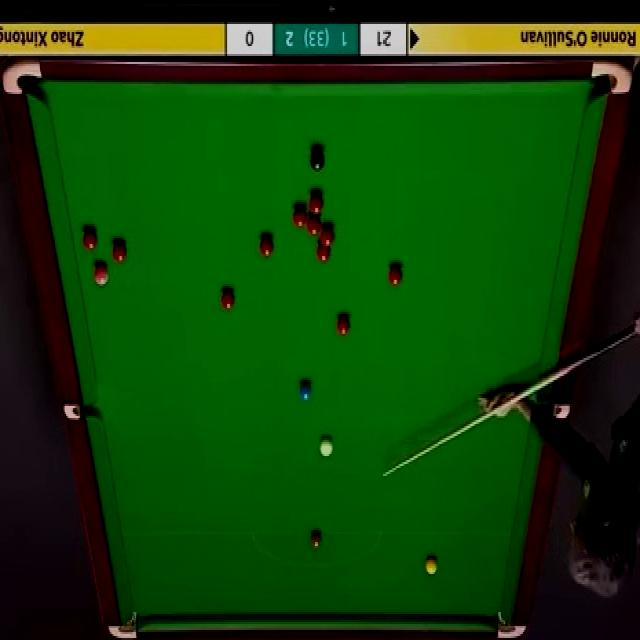black-ball: (309, 147, 326, 172)
blue-ball: (298, 382, 313, 403)
brown-ball: (310, 530, 323, 550)
pink-ball: (93, 262, 109, 288)
red-ball: (258, 235, 275, 259), (110, 240, 126, 264), (292, 203, 307, 228), (388, 264, 403, 286), (336, 314, 351, 336), (82, 228, 97, 250), (310, 191, 323, 214), (306, 216, 322, 234), (222, 288, 235, 310), (316, 246, 332, 263), (320, 232, 334, 248)
white-ball: (317, 436, 333, 460)
yellow-ball: (424, 554, 437, 575)
